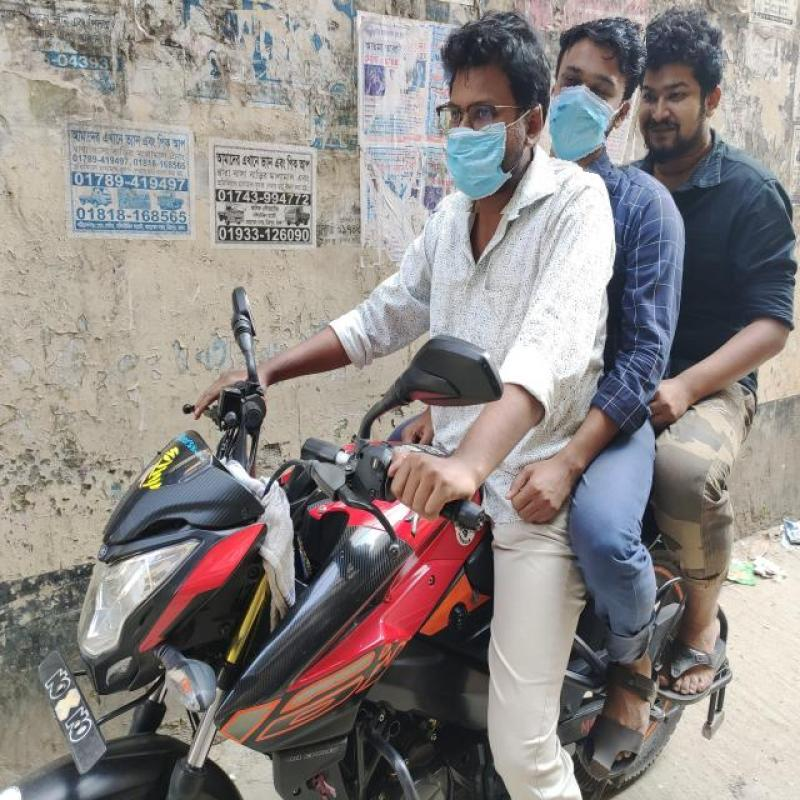nohelmet: (404, 28, 542, 214), (647, 14, 767, 158), (554, 15, 648, 177)
